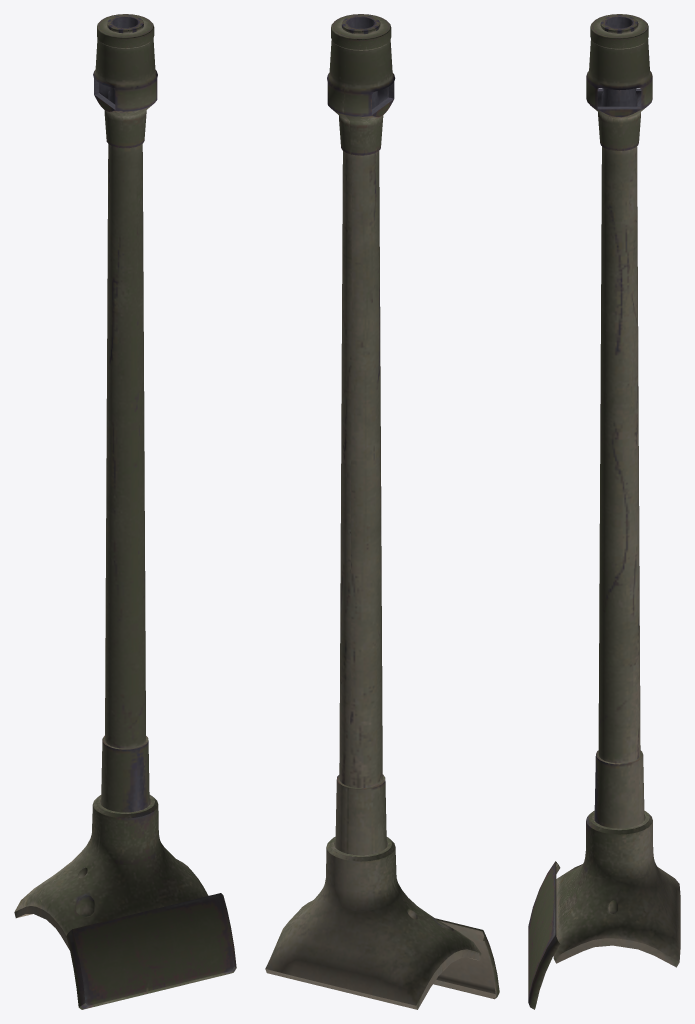
The model's file is Gun_03.glb.
The picture shows the model from 3 angles, left to right: view 1: azimuth 30°, elevation 25°; view 2: azimuth 150°, elevation 25°; view 3: azimuth 270°, elevation 25°; orthographic projection. The views are drawn at different scales.
Parts seen in each view (by area): view 1: set_0_group_0; view 2: set_0_group_0; view 3: set_0_group_0.
Boxes of the visible parts, box(x1,y1,x2,y2) form: set_0_group_0: box(14, 14, 236, 1009); set_0_group_0: box(265, 14, 499, 1009); set_0_group_0: box(528, 14, 680, 1009).
Size of the model in its own units: 0.8999 by 5.17 by 0.7476.
Materials: 1 (1 with a texture image).
